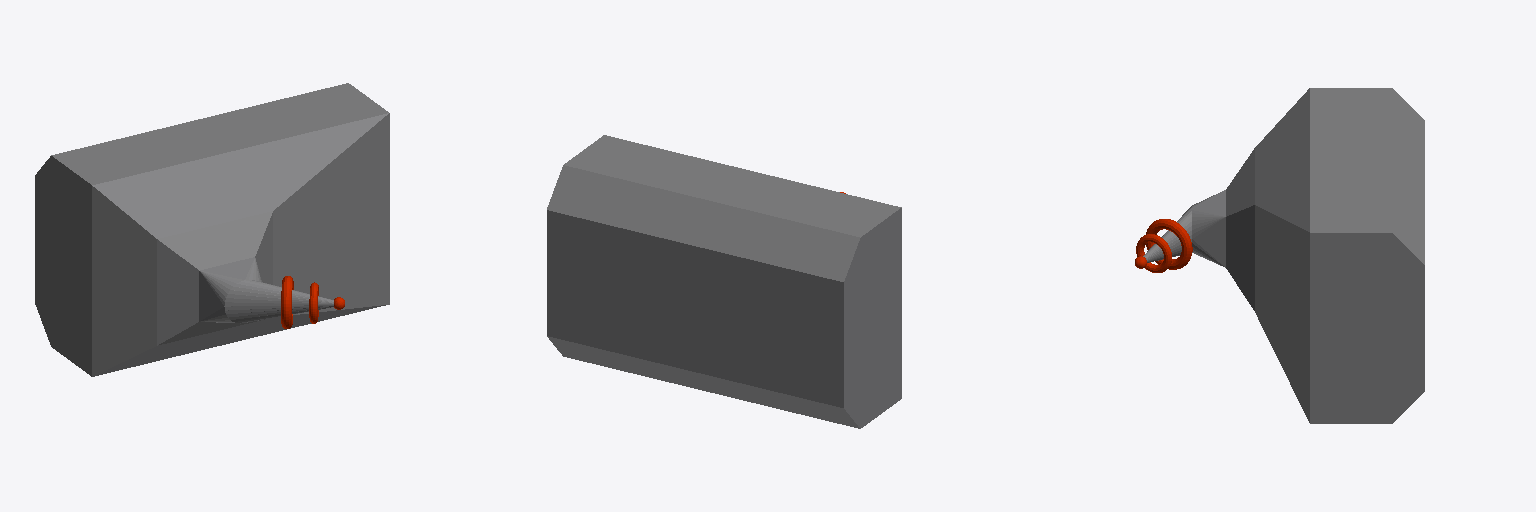
File: tank.obj
3 views of the same model, side by side, from view 1: azimuth 30°, elevation 25°; view 2: azimuth 150°, elevation 25°; view 3: azimuth 270°, elevation 25° (orthographic).
Visible parts, largest first — view 1: Cube, Torus.001; view 2: Cube; view 3: Cube, Torus.001, Torus.
Boxes of the visible parts, x1,y1,x2,y2 form: Cube: [35, 83, 389, 376]; Torus.001: [281, 276, 293, 328]; Cube: [547, 135, 901, 428]; Cube: [1143, 88, 1424, 423]; Torus.001: [1146, 219, 1192, 269]; Torus: [1136, 234, 1171, 272].
Bounding box in the file's own units: 3.25 × 2 × 2.75.